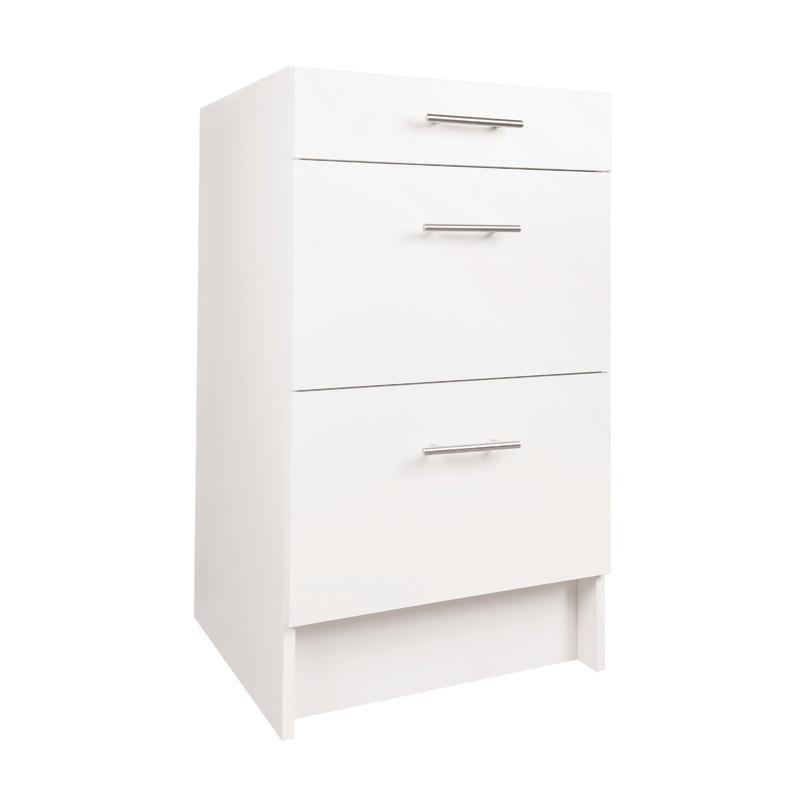cabinet_door: (296, 166, 610, 377), (296, 393, 611, 581), (301, 76, 605, 162)
handle: (414, 429, 529, 470), (414, 212, 527, 249), (415, 106, 530, 140)
